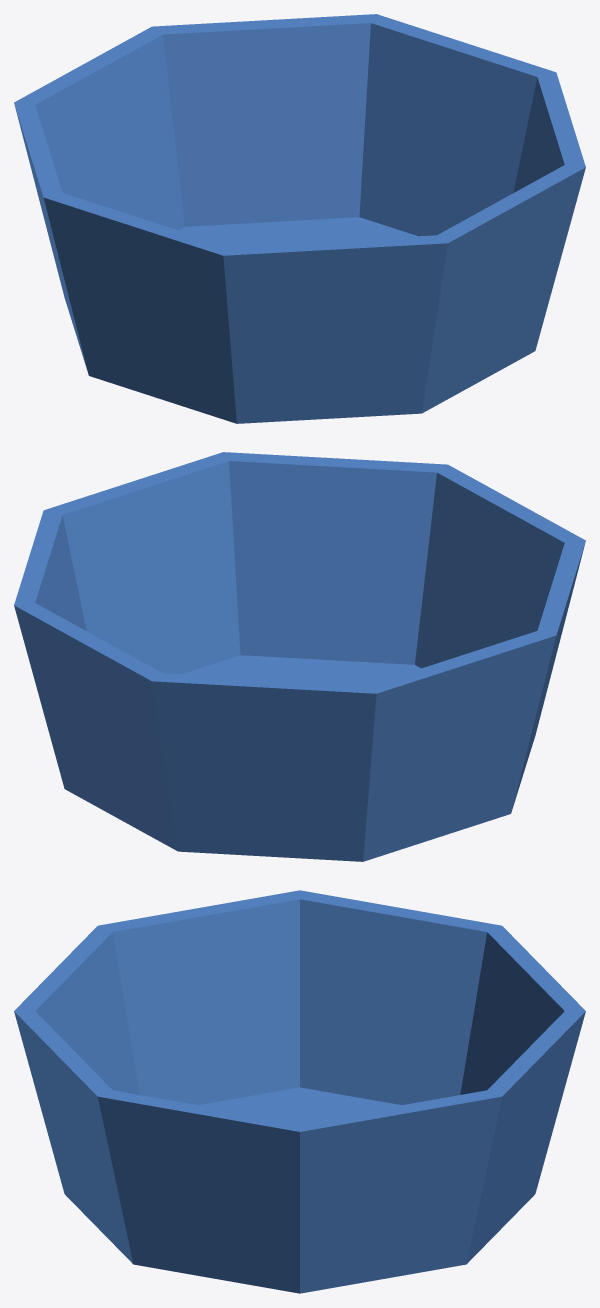
The model's file is ENVI_LV2-3_Ember.fbx.
3 renders of one model, top to bottom at view 1: azimuth 30°, elevation 25°; view 2: azimuth 150°, elevation 25°; view 3: azimuth 270°, elevation 25°, orthographic. The views are drawn at different scales.
Parts seen in each view (by area): view 1: Ember; view 2: Ember; view 3: Ember.
Part boxes in pixels (left/top/right/bottom): Ember: left=14, top=14, right=585, bottom=423; Ember: left=14, top=452, right=585, bottom=861; Ember: left=14, top=890, right=585, bottom=1293.
Size of the model in its own units: 75.42 by 26.63 by 75.42.
